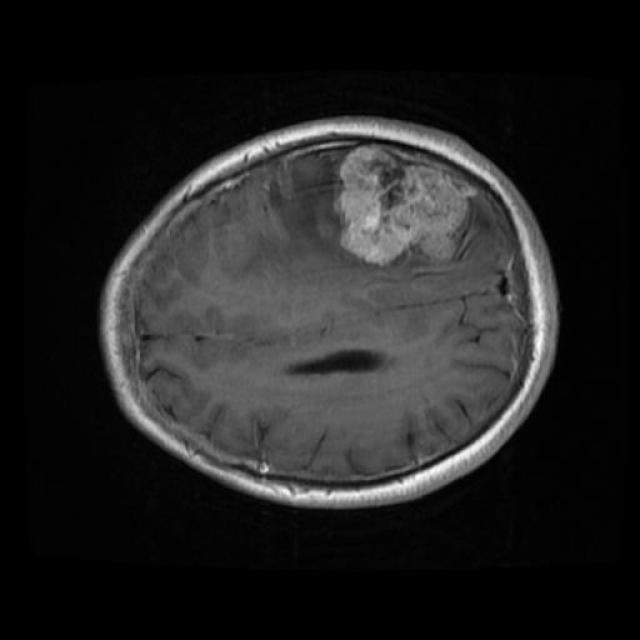Meningioma: (334, 145, 477, 265)
